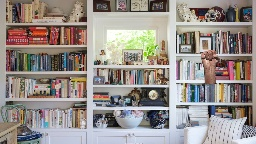Pugno: (198, 48, 221, 70)
